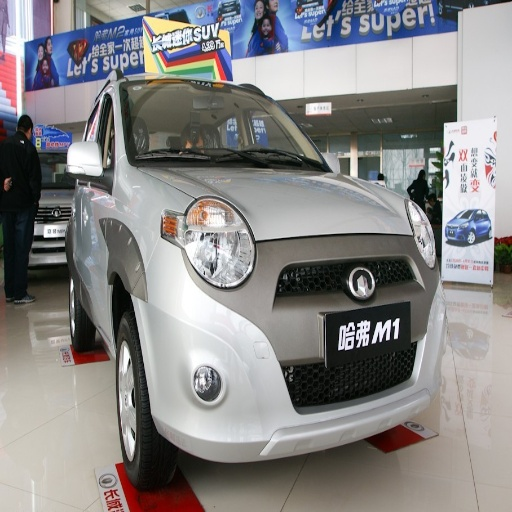front_bumper: (140, 235, 435, 461)
front_right_door: (85, 110, 118, 322)
front_right_light: (161, 198, 256, 289)
trunk: (248, 182, 327, 270)
